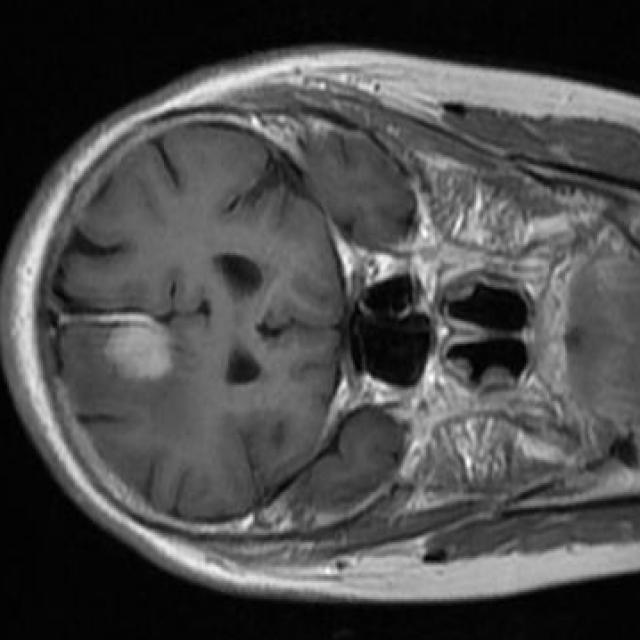meningioma: (107, 314, 171, 378)
